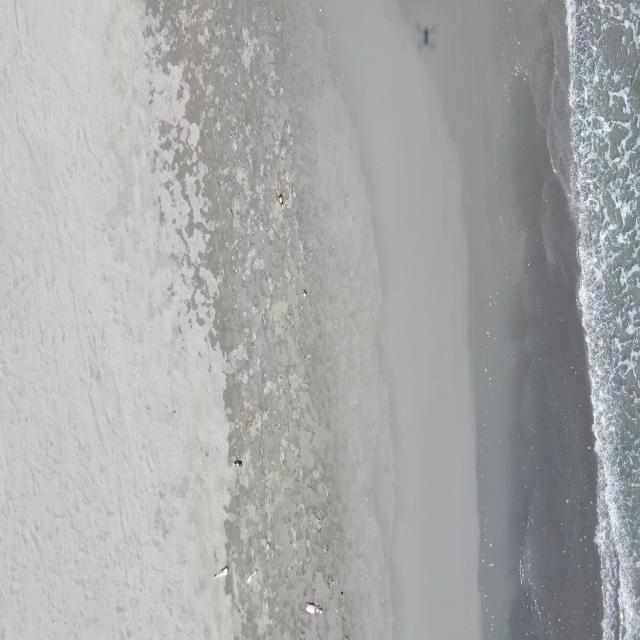glass: (245, 568, 259, 583), (515, 65, 529, 78), (213, 566, 228, 578), (306, 602, 322, 613), (278, 192, 285, 208), (328, 578, 337, 587), (498, 210, 503, 223), (503, 87, 510, 94), (266, 542, 272, 549), (303, 288, 307, 298)
